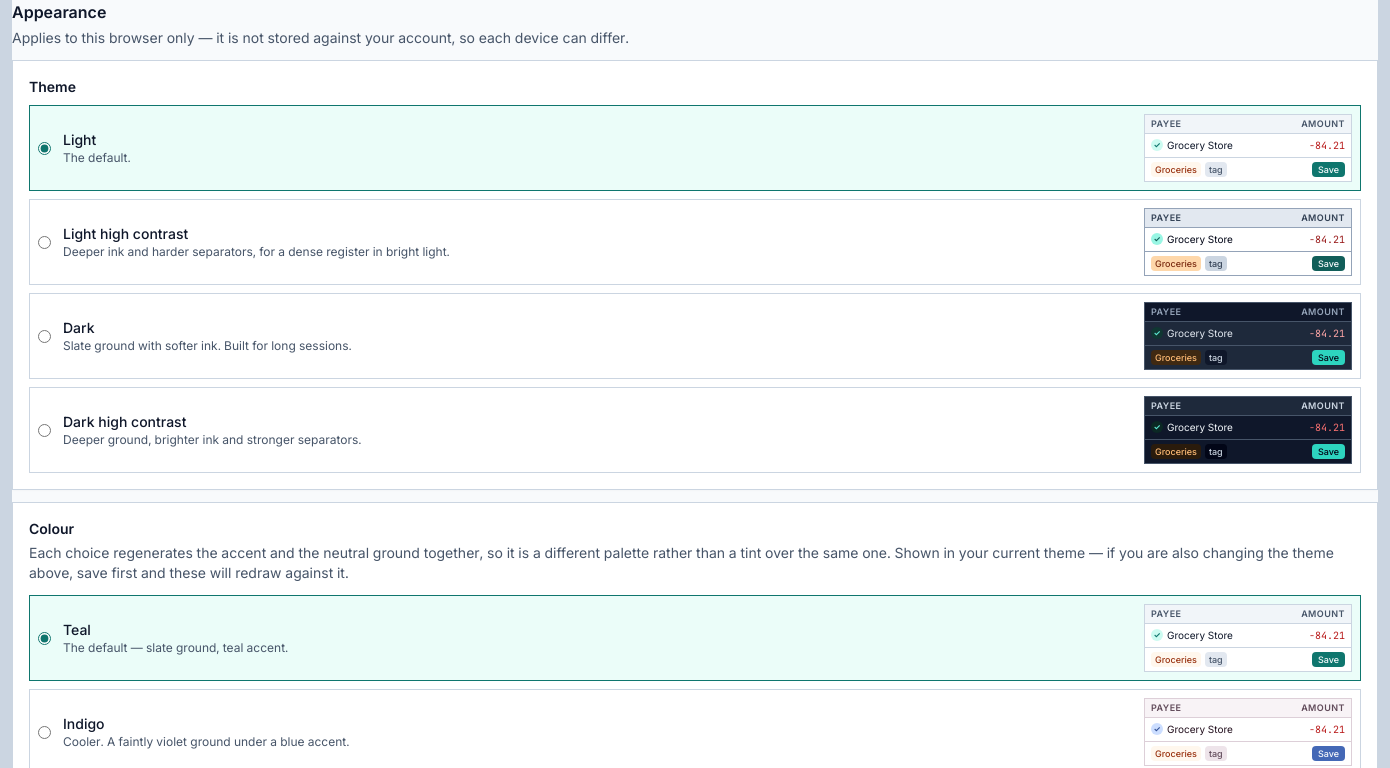
Test: AppearancePanel › disables Save until something changes
Click the radio button labelled "Indigo" at [44, 732], box [38,726,51,738]
(page scrolled)
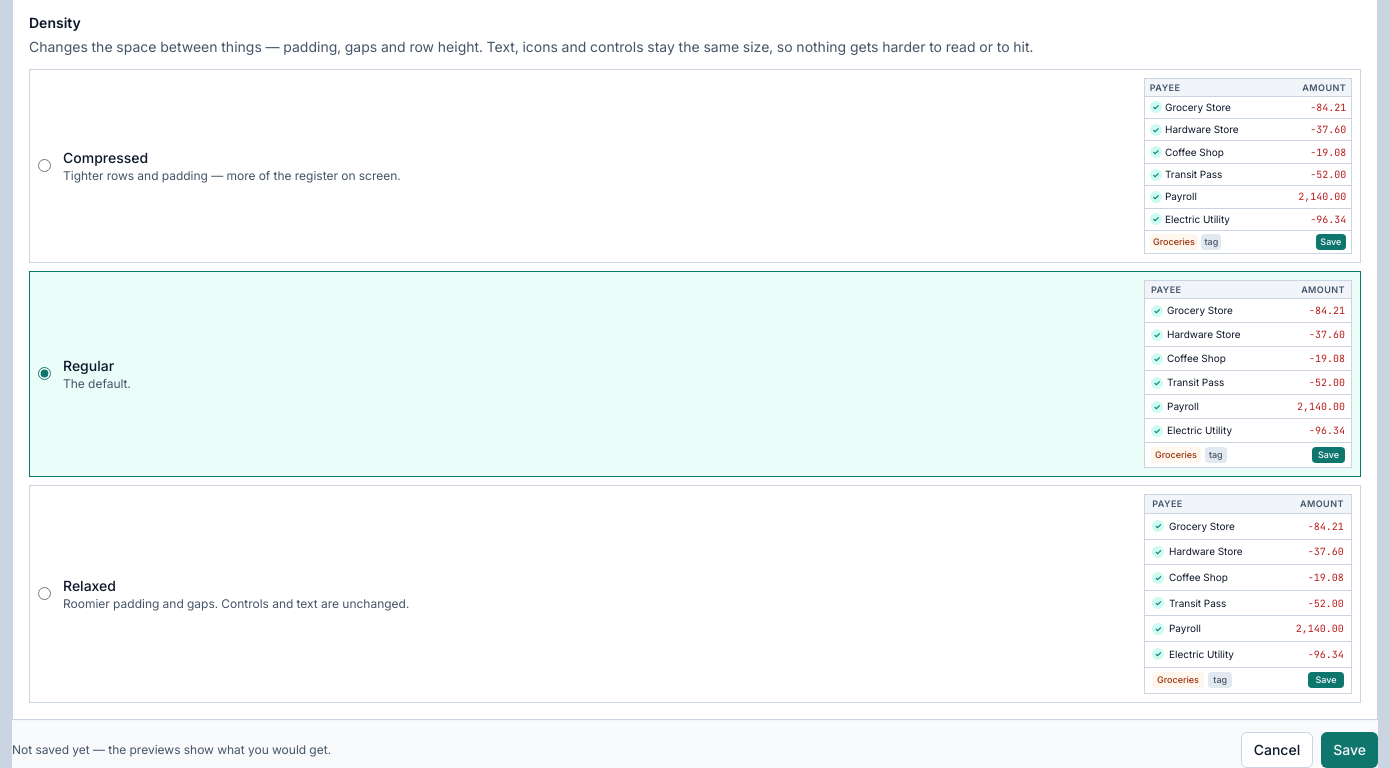
Expected: the button "Save" is enabled, [1321,732,1378,767]
